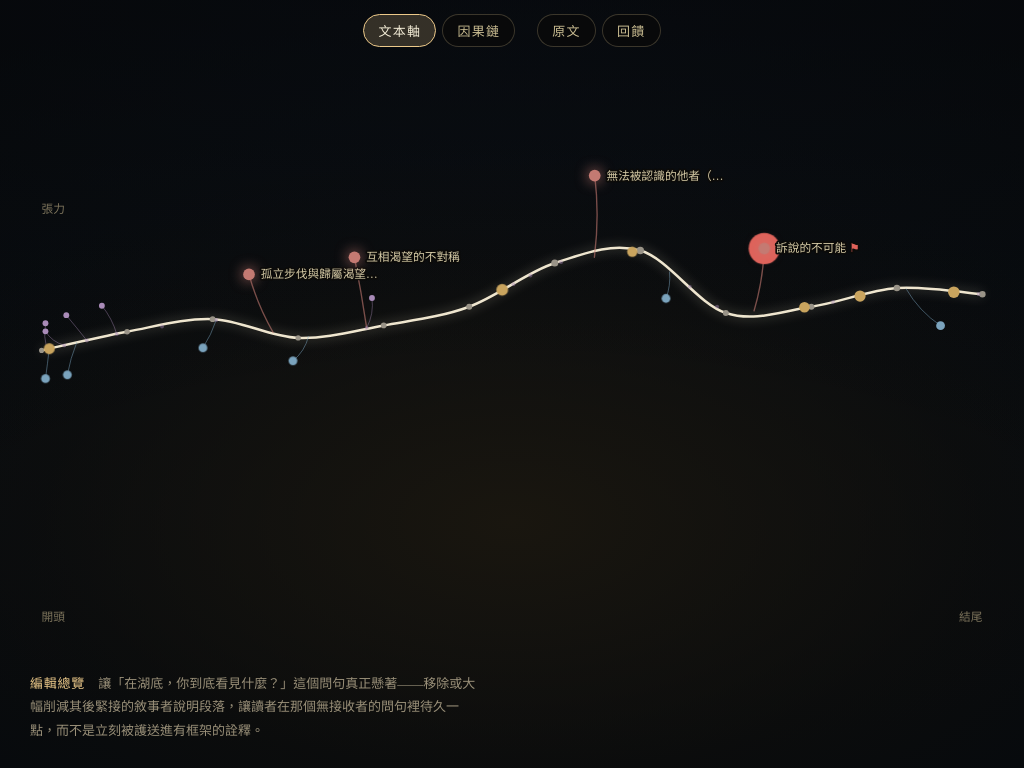
Test case: Single › 進單篇顯示骨舞台,三段切換在,可開原文覆蓋層
Expected: the button "因果鏈" is shown, [442,14,515,47]
Click the button "原文".
click(567, 30)  # box [537,14,596,47]
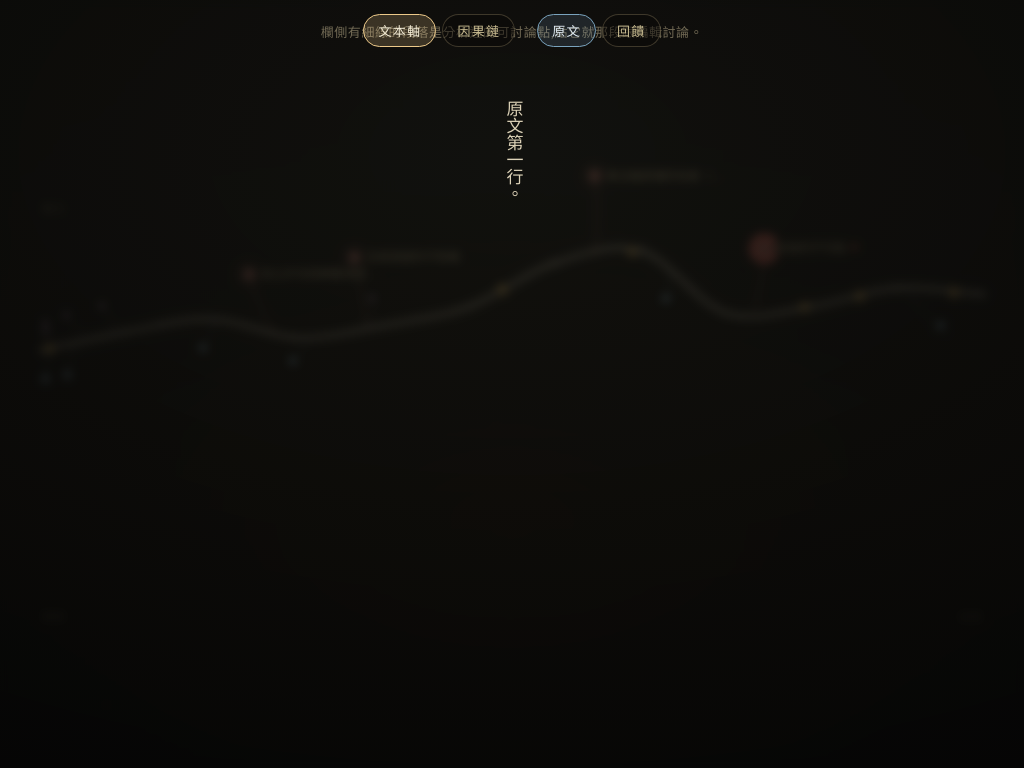
Result: the text "原文第一行。" is shown at [503,66,522,202]
